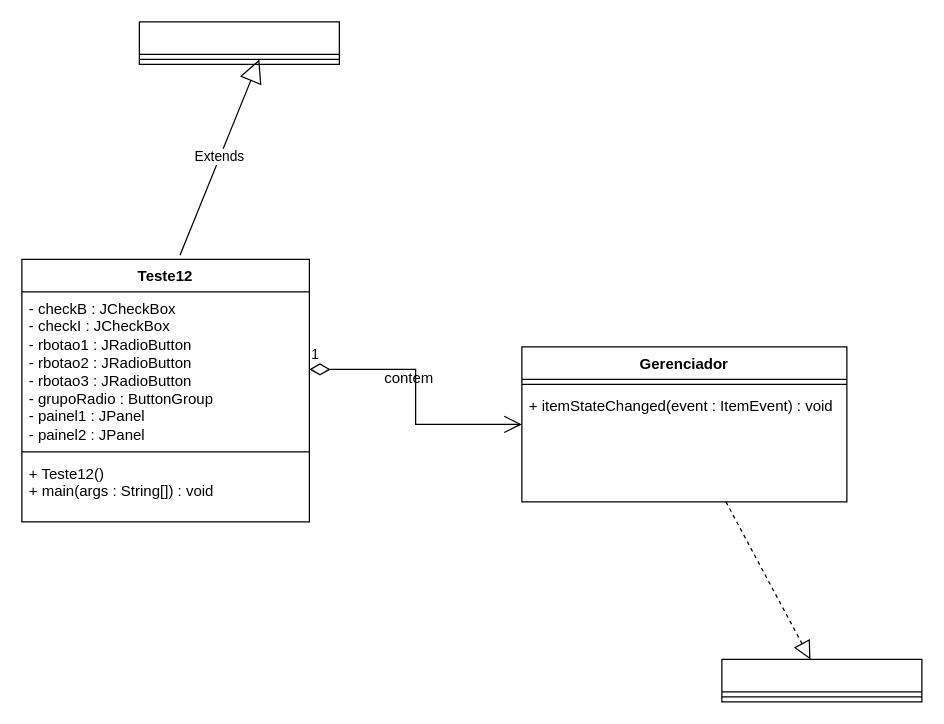
Image size: 944x724. Some labels were removed from this diagram. Here are the shapes that lost their labels. From the top down, the centre of each, then its label:
[238,42]: JFrame
[821,680]: ItemListener
